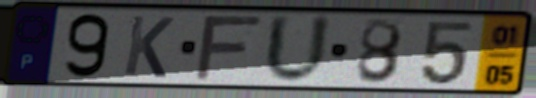5: (418, 18, 476, 87)
8: (353, 17, 404, 86)
9: (62, 12, 112, 79)
F: (191, 14, 267, 84)
K: (120, 13, 177, 81)
U: (261, 12, 335, 87)
